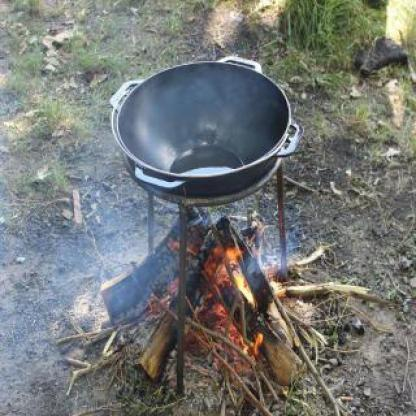fire: (201, 232, 259, 310), (229, 322, 270, 363)
